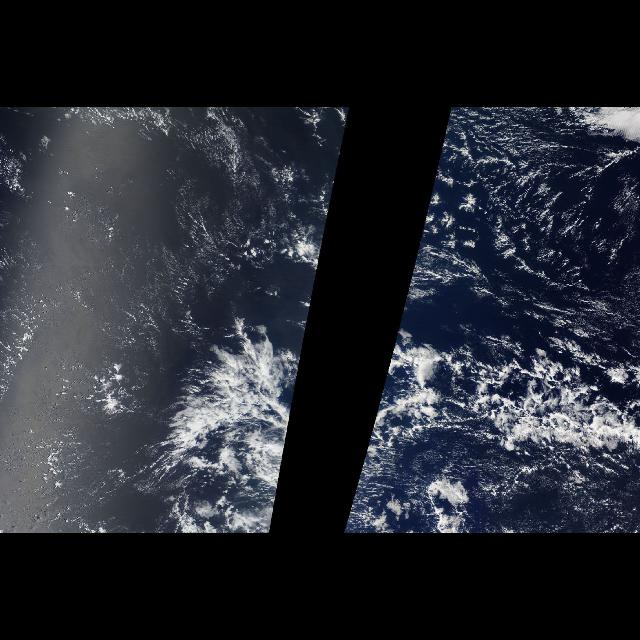Fish: (341, 300, 637, 532), (146, 300, 314, 532)
